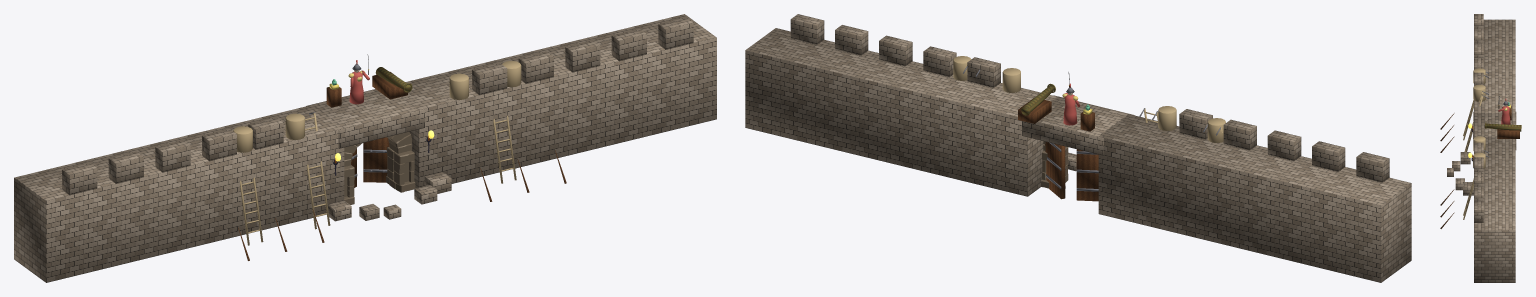
Rendered from humen-assault-breach.glb.
3 views of the same model, side by side, from view 1: azimuth 30°, elevation 25°; view 2: azimuth 150°, elevation 25°; view 3: azimuth 270°, elevation 25° (orthographic). The views are drawn at different scales.
Visible parts, largest first — view 1: BreachedBastion_Masonry, BreachedBastion_Arch, Gate_R_Leaf, AdmiralCannon, Ladder_2_Wood, GuanTianpei_Body, Ladder_3_Wood, Ladder_1_Wood; view 2: BreachedBastion_Masonry, Gate_L_Leaf, Gate_R_Leaf, AdmiralCannon, GuanTianpei_Body; view 3: BreachedBastion_Masonry, AdmiralCannon, GuanTianpei_Body, Ladder_2_Wood, Ladder_3_Wood, Ladder_1_Wood.
Boxes of the visible parts, <box> form: BreachedBastion_Masonry: <box>14,14,716,282</box>; BreachedBastion_Arch: <box>344,131,415,204</box>; Gate_R_Leaf: <box>363,137,389,182</box>; AdmiralCannon: <box>372,67,412,99</box>; Ladder_2_Wood: <box>305,112,330,229</box>; GuanTianpei_Body: <box>348,60,369,104</box>; Ladder_3_Wood: <box>493,115,516,183</box>; Ladder_1_Wood: <box>240,177,263,245</box>; BreachedBastion_Masonry: <box>745,14,1411,282</box>; Gate_L_Leaf: <box>1076,149,1098,201</box>; Gate_R_Leaf: <box>1045,142,1065,199</box>; AdmiralCannon: <box>1018,83,1055,123</box>; GuanTianpei_Body: <box>1062,83,1080,125</box>; BreachedBastion_Masonry: <box>1440,14,1516,282</box>; AdmiralCannon: <box>1484,122,1521,138</box>; GuanTianpei_Body: <box>1498,98,1510,124</box>; Ladder_2_Wood: <box>1464,91,1488,151</box>; Ladder_3_Wood: <box>1463,150,1488,219</box>; Ladder_1_Wood: <box>1463,71,1488,140</box>.
Size of the model in its own units: 36 by 6.92 by 5.88.
23 materials, 4 textured.
